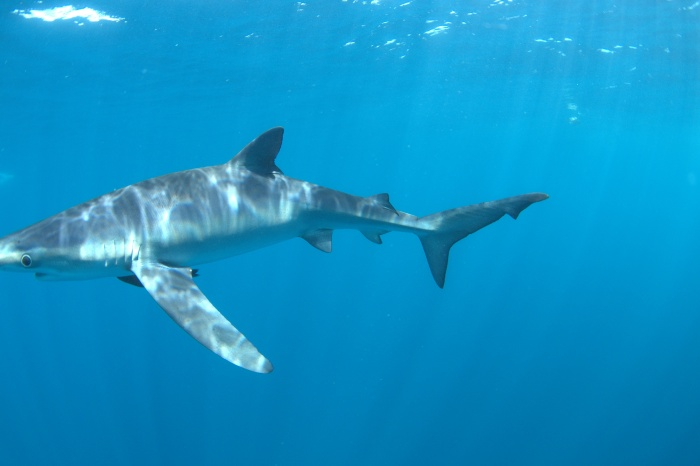Azul: (1, 98, 558, 408)
